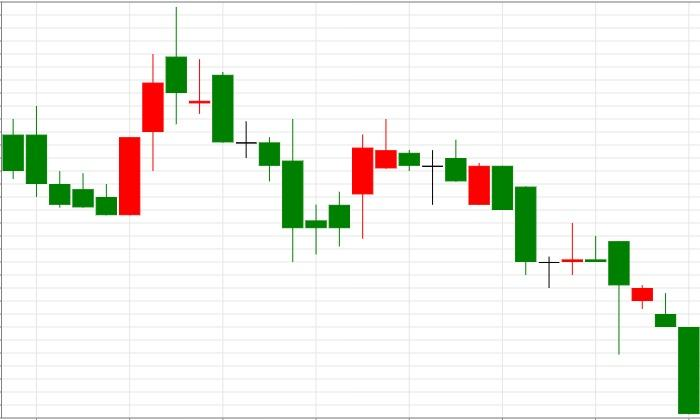bullish_engulfing_rise: (2, 104, 141, 216)
hammer_rise: (492, 166, 629, 355)
